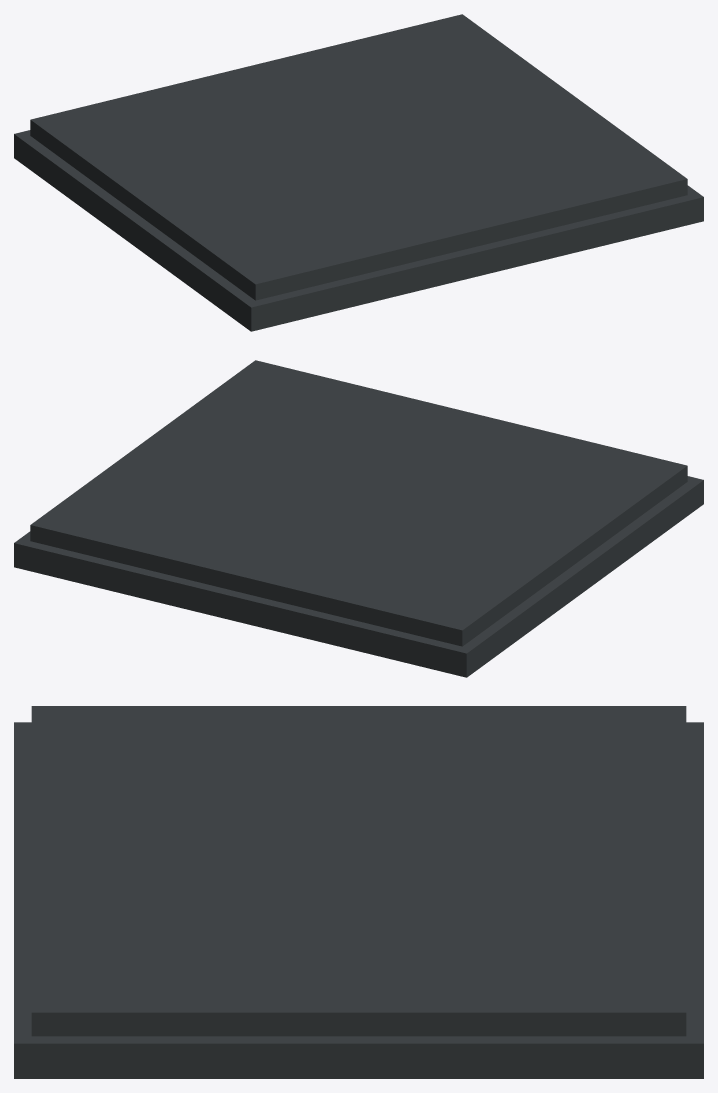
The model's file is DU_電路板_藍_大積體電路.fbx.
3 renders of one model, top to bottom at view 1: azimuth 30°, elevation 25°; view 2: azimuth 150°, elevation 25°; view 3: azimuth 270°, elevation 25°, orthographic. The views are drawn at different scales.
Visible parts, largest first — view 1: pCube102; view 2: pCube102; view 3: pCube102.
Boxes of the visible parts, box(x1,y1,x2,y2) form: pCube102: box(14, 14, 703, 331); pCube102: box(14, 360, 703, 677); pCube102: box(14, 706, 703, 1078).
Bounding box in the file's own units: 4.38 × 0.3736 × 3.97.
Materials: 1 (1 with a texture image).
